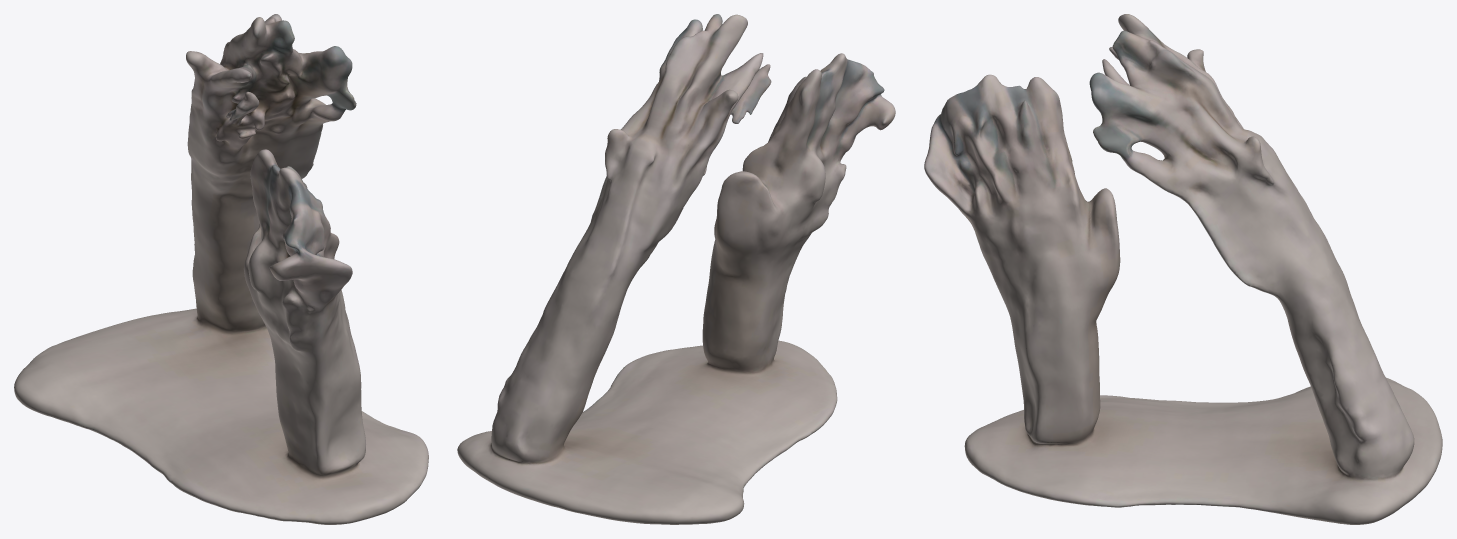
File: 4b85a1f61289_hands_sculpture__3d.fbx
3 views of the same model, side by side, from view 1: azimuth 30°, elevation 25°; view 2: azimuth 150°, elevation 25°; view 3: azimuth 270°, elevation 25° (orthographic). The views are drawn at different scales.
Parts seen in each view (by area): view 1: high_poly; view 2: high_poly; view 3: high_poly.
Boxes of the visible parts, x1=… form: high_poly: x1=14, y1=14, x2=428, y2=524; high_poly: x1=457, y1=14, x2=895, y2=524; high_poly: x1=924, y1=14, x2=1442, y2=524.
Size of the model in its own units: 65.04 by 92.22 by 100.
